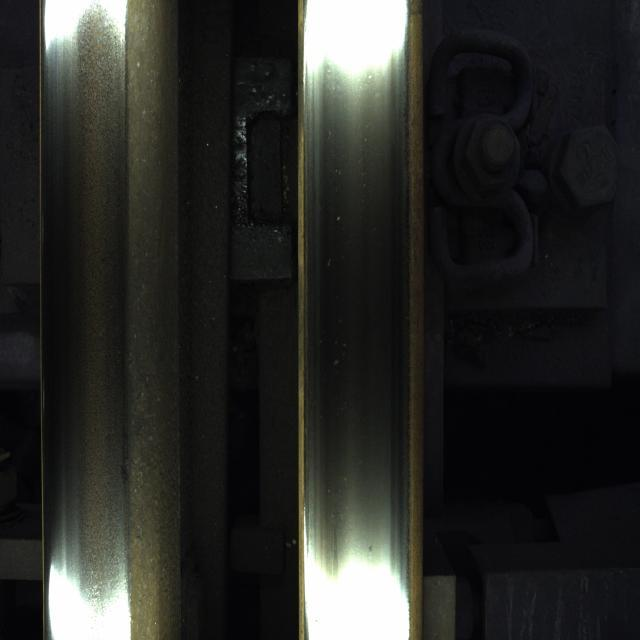break: (314, 40, 400, 538)
normal: (54, 0, 137, 472)
